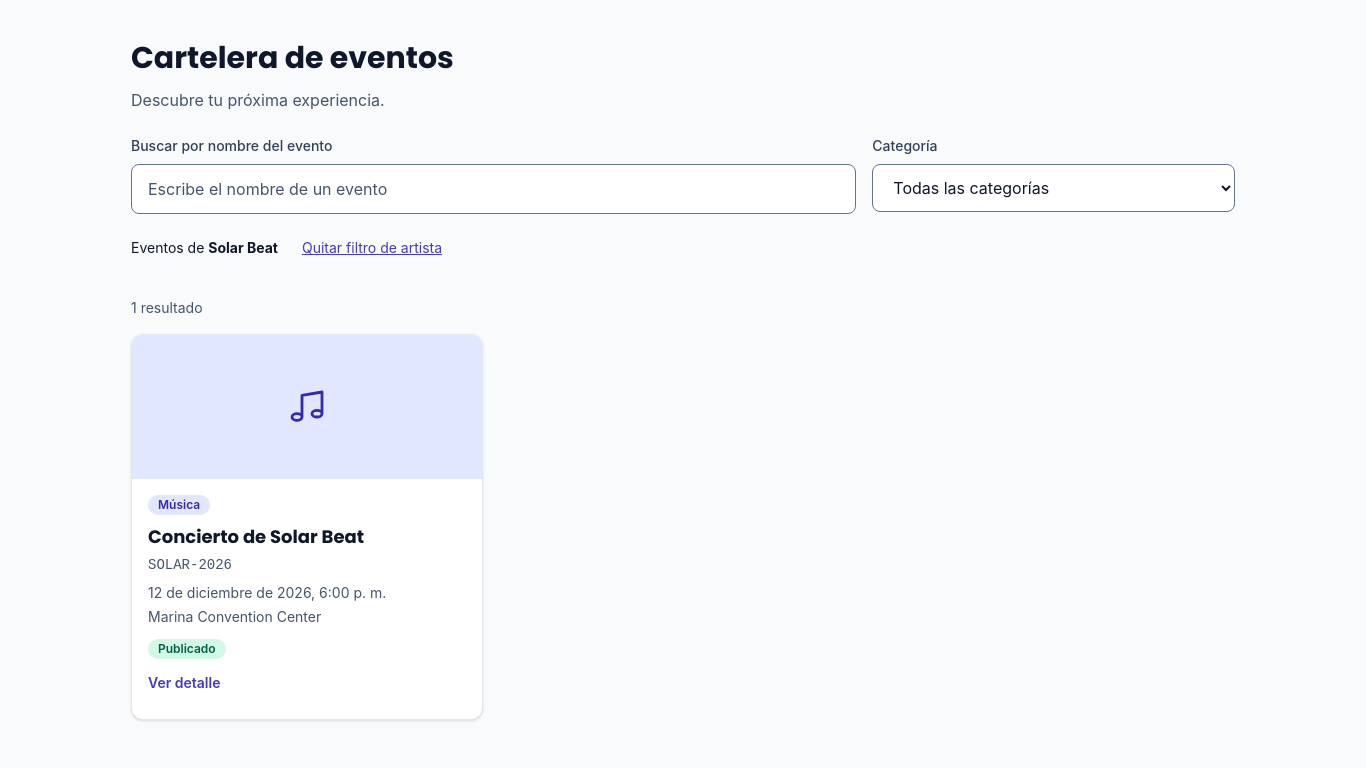
Test: CatalogoEventos › consulta por artista y restaura el catálogo al quitar el filtro
Check: the heading "Concierto de Solar Beat" is shown, box [148, 523, 364, 551]
Click the button "Quitar filtro de artista" at [372, 248], box [290, 230, 454, 266]
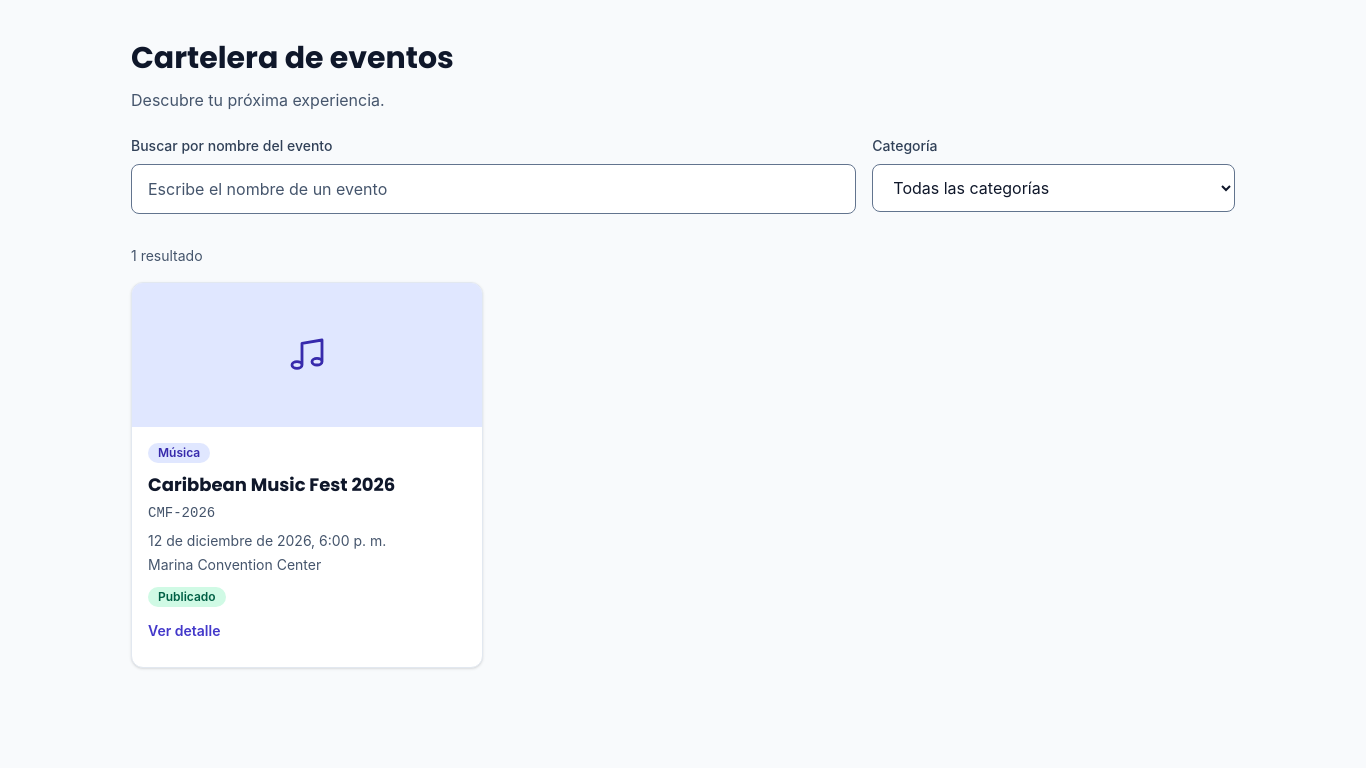
Check: the heading "Caribbean Music Fest 2026" is shown, box [148, 471, 395, 499]
